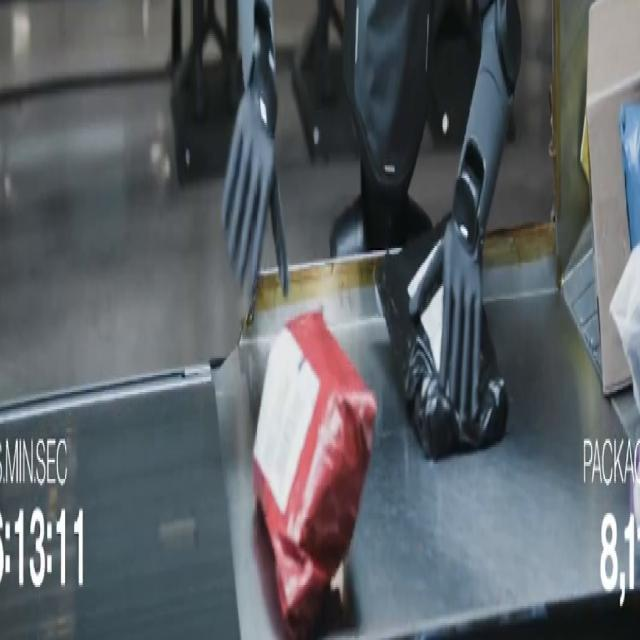package: (253, 312, 376, 637), (376, 217, 507, 459), (586, 0, 639, 394), (610, 246, 639, 411), (620, 104, 639, 250)
